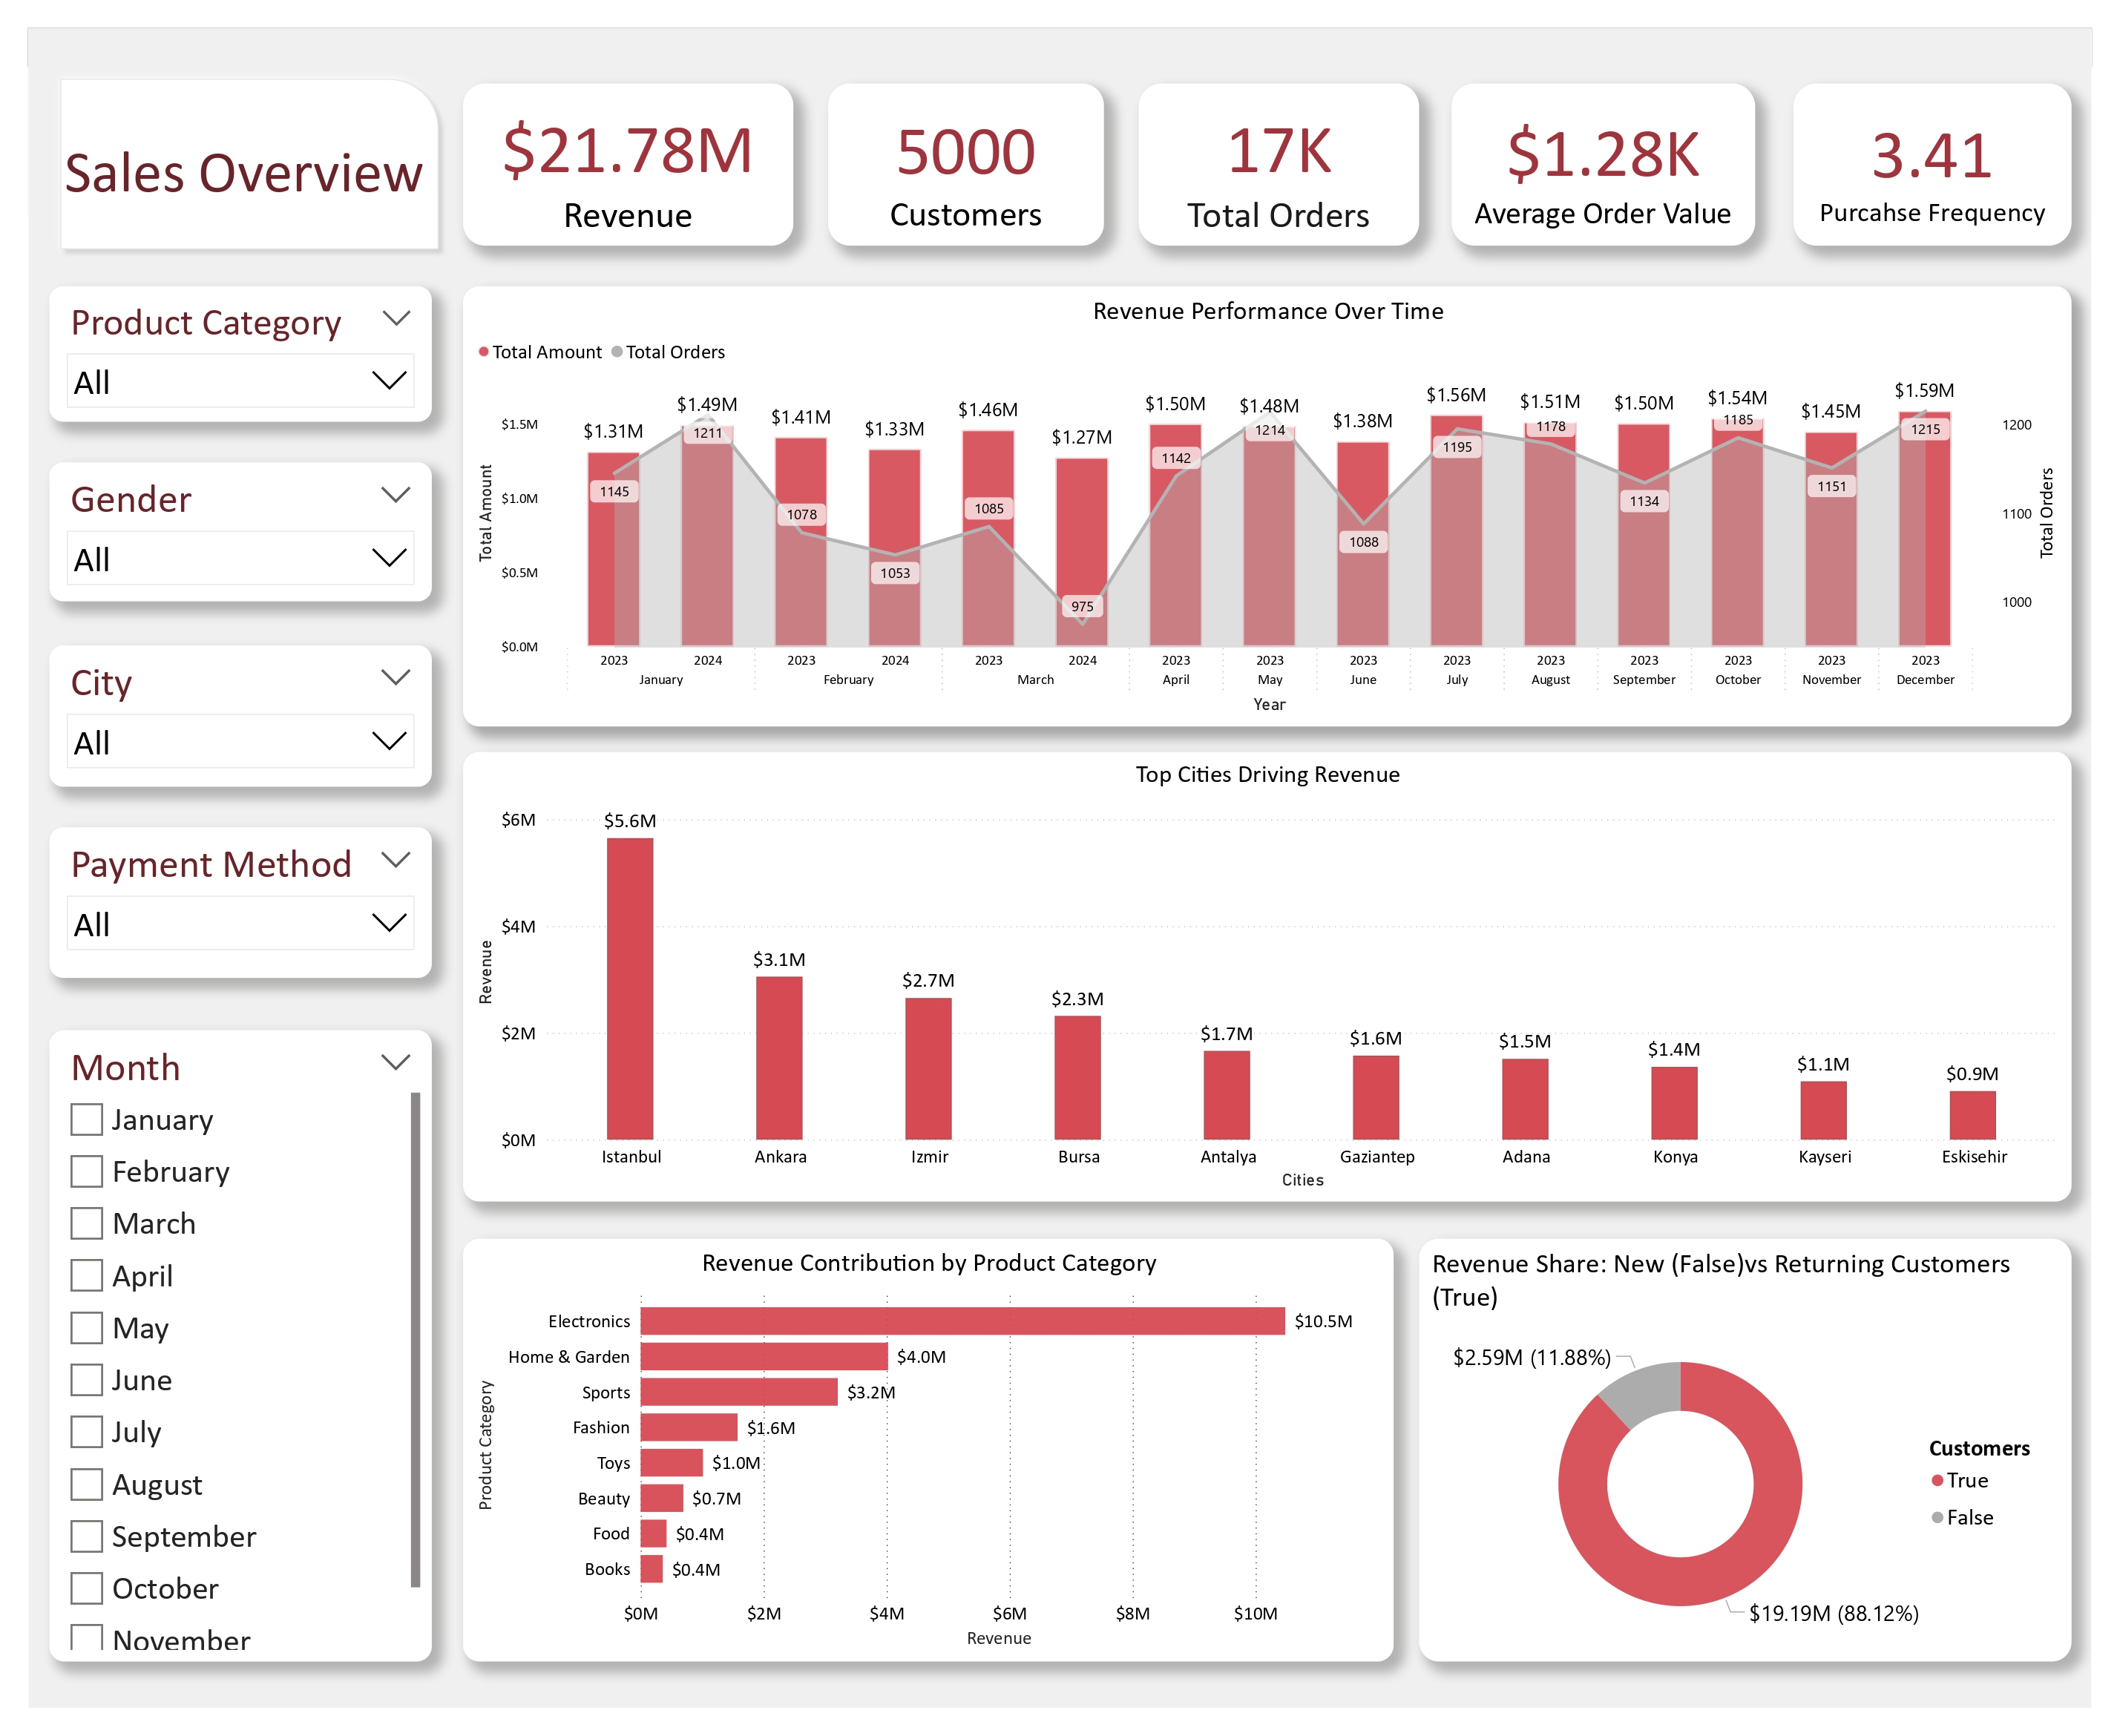

The dashboard page shown, as its layout file describes it:
{"tool":"powerbi","page":{"name":"Page 1","canvas":[1780,1450],"ordinal":0},"visuals":[{"type":"card","fields":{"Values":["clean_transactions.Purcahse Frequency"]},"box":[1522.5,47.5,240,140],"z":0},{"type":"card","fields":{"Values":["Sum(clean_transactions.Total_Amount)"]},"box":[375,47.5,285,140],"z":1000},{"type":"card","fields":{"Values":["customer_master.Total Customers"]},"box":[690,47.5,237.5,140],"z":2000},{"type":"lineStackedColumnComboChart","title":"Revenue Performance Over Time","fields":{"Y2":["clean_transactions.Total Orders"],"Category":["clean_transactions.order_month.Variation.Date Hierarchy.Month","clean_transactions.order_month.Variation.Date Hierarchy.Year"],"Y":["Sum(clean_transactions.Total_Amount)"]},"box":[375,222.5,1387.5,380],"z":3000},{"type":"slicer","fields":{"Values":["clean_transactions.Product_Category"]},"box":[17.5,222.5,330,117.5],"z":4000},{"type":"barChart","title":"Revenue Contribution by Product Category","fields":{"Category":["clean_transactions.Product_Category"],"Y":["Sum(clean_transactions.Total_Amount)"]},"box":[375,1045,802.5,365],"z":5000},{"type":"card","fields":{"Values":["clean_transactions.Total Orders"]},"box":[957.5,47.5,242.5,140],"z":6000},{"type":"slicer","fields":{"Values":["clean_transactions.Gender"]},"box":[17.5,375,330,120],"z":7000},{"type":"slicer","fields":{"Values":["clean_transactions.City"]},"box":[17.5,532.5,330,122.5],"z":8000},{"type":"clusteredColumnChart","title":"Top Cities Driving Revenue","fields":{"Category":["clean_transactions.City"],"Y":["Sum(clean_transactions.Total_Amount)"]},"box":[375,625,1387.5,387.5],"z":9000},{"type":"slicer","fields":{"Values":["clean_transactions.Payment_Method"]},"box":[17.5,690,330,130],"z":10000},{"type":"donutChart","title":"Revenue Share: New (False)vs Returning Customers (True)","fields":{"Category":["clean_transactions.Is_Returning_Customer"],"Y":["Sum(clean_transactions.Total_Amount)"]},"box":[1200,1045,562.5,365],"z":11000},{"type":"card","fields":{"Values":["clean_transactions.Average Order Value"]},"box":[1227.5,47.5,262.5,140],"z":12000},{"type":"slicer","fields":{"Values":["clean_transactions.order_date.Variation.Date Hierarchy.Month"]},"box":[17.5,865,330,545],"z":13000},{"type":"shape","box":[17.5,35,345,165],"z":14000}]}

Visuals, with their boxes on the page's 1780x1450 design canvas (x1, y1, x2, y2). These are canvas units, not pixel positions in the 2120x1736 screenshot, which may show the page scaled, cropped or inside an application window:
card - clean_transactions.Purcahse Frequency: {"x1": 1522, "y1": 48, "x2": 1762, "y2": 188}
card - Sum(clean_transactions.Total_Amount): {"x1": 375, "y1": 48, "x2": 660, "y2": 188}
card - customer_master.Total Customers: {"x1": 690, "y1": 48, "x2": 928, "y2": 188}
"Revenue Performance Over Time" lineStackedColumnComboChart: {"x1": 375, "y1": 222, "x2": 1762, "y2": 602}
slicer - clean_transactions.Product_Category: {"x1": 18, "y1": 222, "x2": 348, "y2": 340}
"Revenue Contribution by Product Category" barChart: {"x1": 375, "y1": 1045, "x2": 1178, "y2": 1410}
card - clean_transactions.Total Orders: {"x1": 958, "y1": 48, "x2": 1200, "y2": 188}
slicer - clean_transactions.Gender: {"x1": 18, "y1": 375, "x2": 348, "y2": 495}
slicer - clean_transactions.City: {"x1": 18, "y1": 532, "x2": 348, "y2": 655}
"Top Cities Driving Revenue" clusteredColumnChart: {"x1": 375, "y1": 625, "x2": 1762, "y2": 1012}
slicer - clean_transactions.Payment_Method: {"x1": 18, "y1": 690, "x2": 348, "y2": 820}
"Revenue Share: New (False)vs Returning Customers (True)" donutChart: {"x1": 1200, "y1": 1045, "x2": 1762, "y2": 1410}
card - clean_transactions.Average Order Value: {"x1": 1228, "y1": 48, "x2": 1490, "y2": 188}
slicer - clean_transactions.order_date.Variation.Date Hierarchy.Month: {"x1": 18, "y1": 865, "x2": 348, "y2": 1410}
shape: {"x1": 18, "y1": 35, "x2": 362, "y2": 200}
